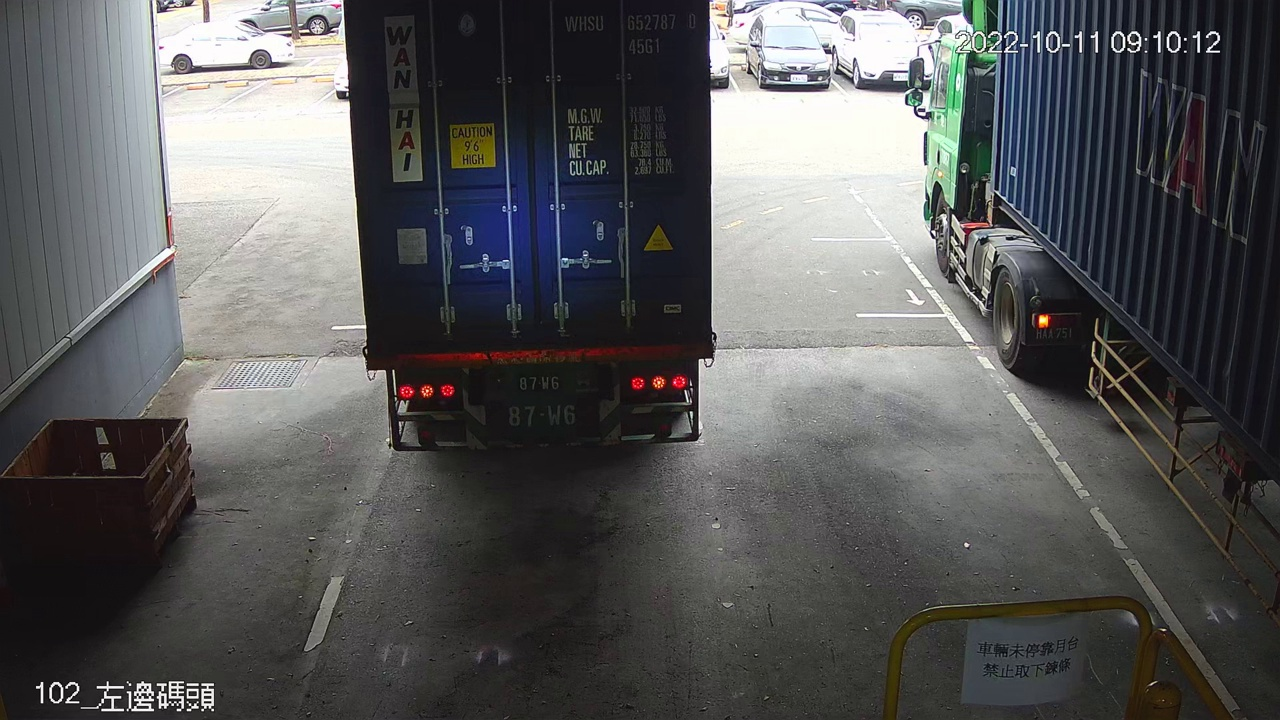container: (559, 6, 702, 64)
